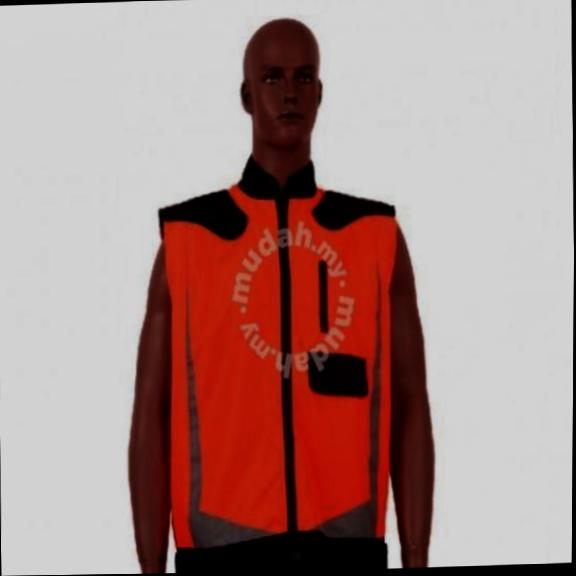safety_vest: (153, 154, 404, 574)
